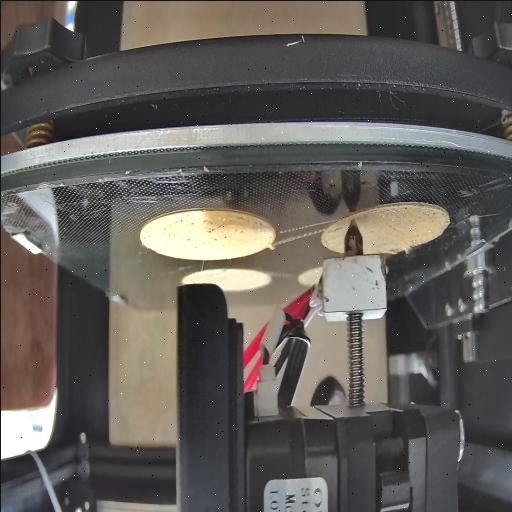under_extrusion: (145, 217, 218, 251), (374, 200, 447, 226), (230, 214, 262, 234), (322, 220, 342, 236)
